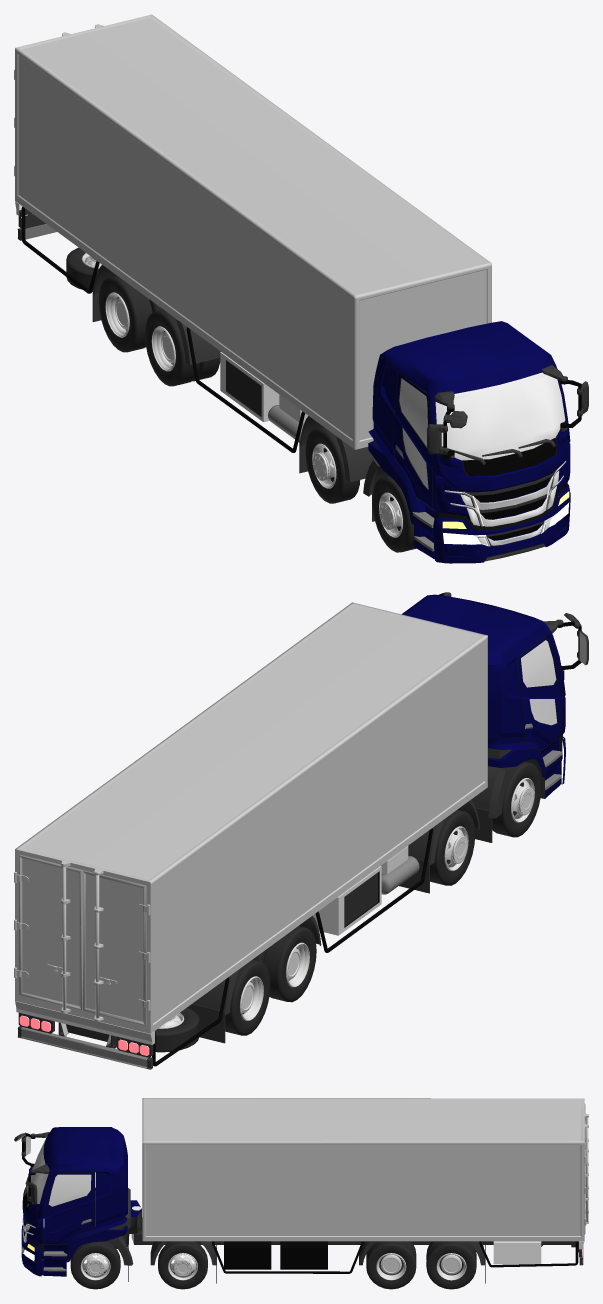
Rendered from truck.glb.
The picture shows the model from 3 angles, top to bottom: view 1: azimuth 30°, elevation 25°; view 2: azimuth 150°, elevation 25°; view 3: azimuth 270°, elevation 25°; orthographic projection. The views are drawn at different scales.
Parts seen in each view (by area): view 1: Object_21; view 2: Object_21; view 3: Object_21.
Part boxes in pixels (x1=…): Object_21: x1=14, y1=14, x2=588, y2=563; Object_21: x1=14, y1=592, x2=588, y2=1069; Object_21: x1=14, y1=1098, x2=588, y2=1289.
Bounding box in the file's own units: 3.15 × 4.12 × 14.52.
